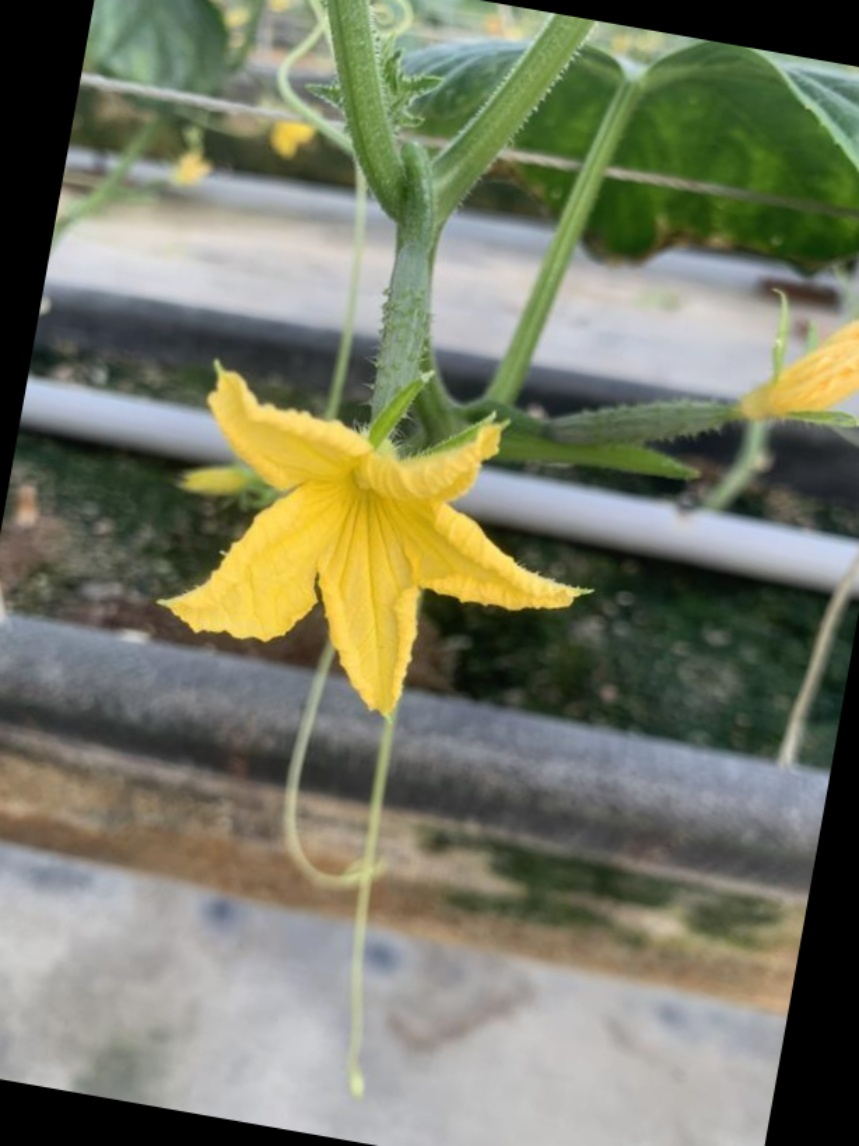flowering: (178, 223, 595, 712)
